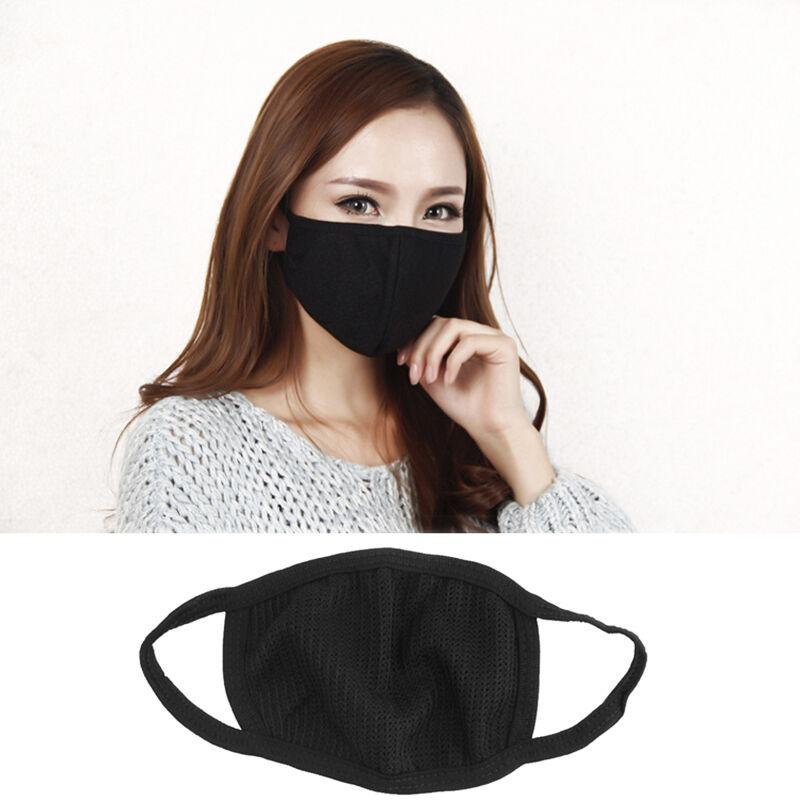Wearing Mask: (194, 10, 569, 433), (96, 525, 669, 800)
